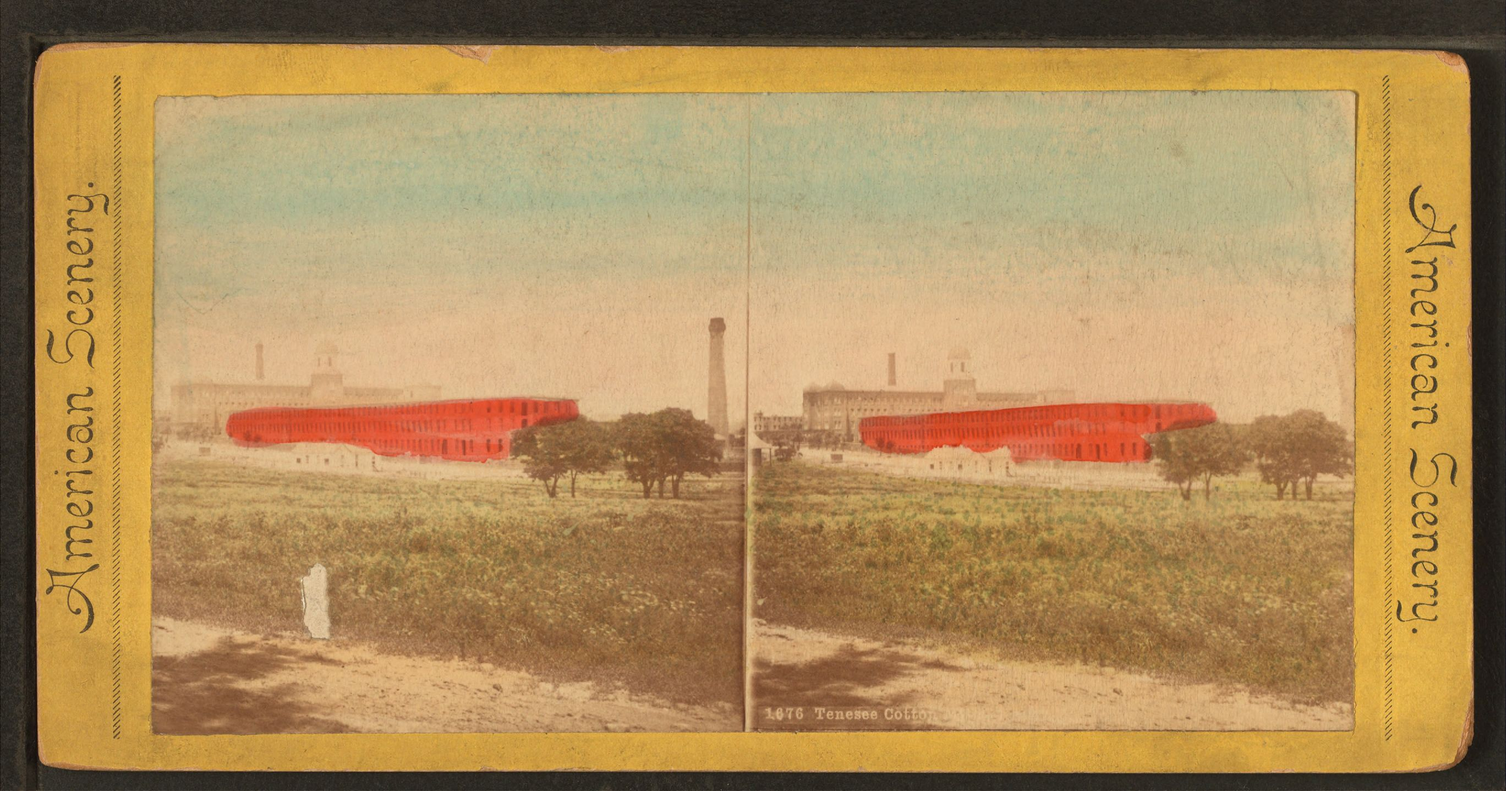half_image: (754, 94, 1356, 732), (153, 95, 749, 734)
